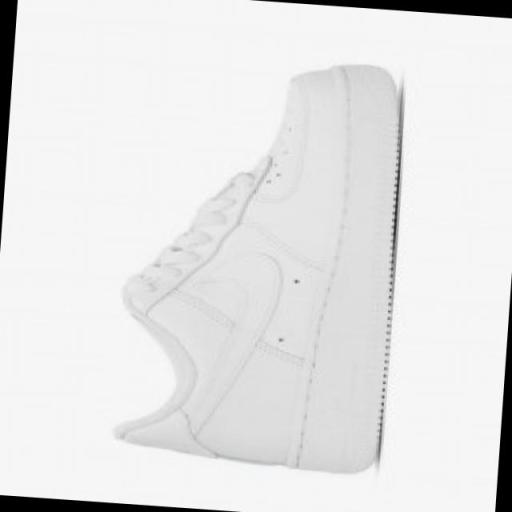Nike: (182, 242, 292, 440)
